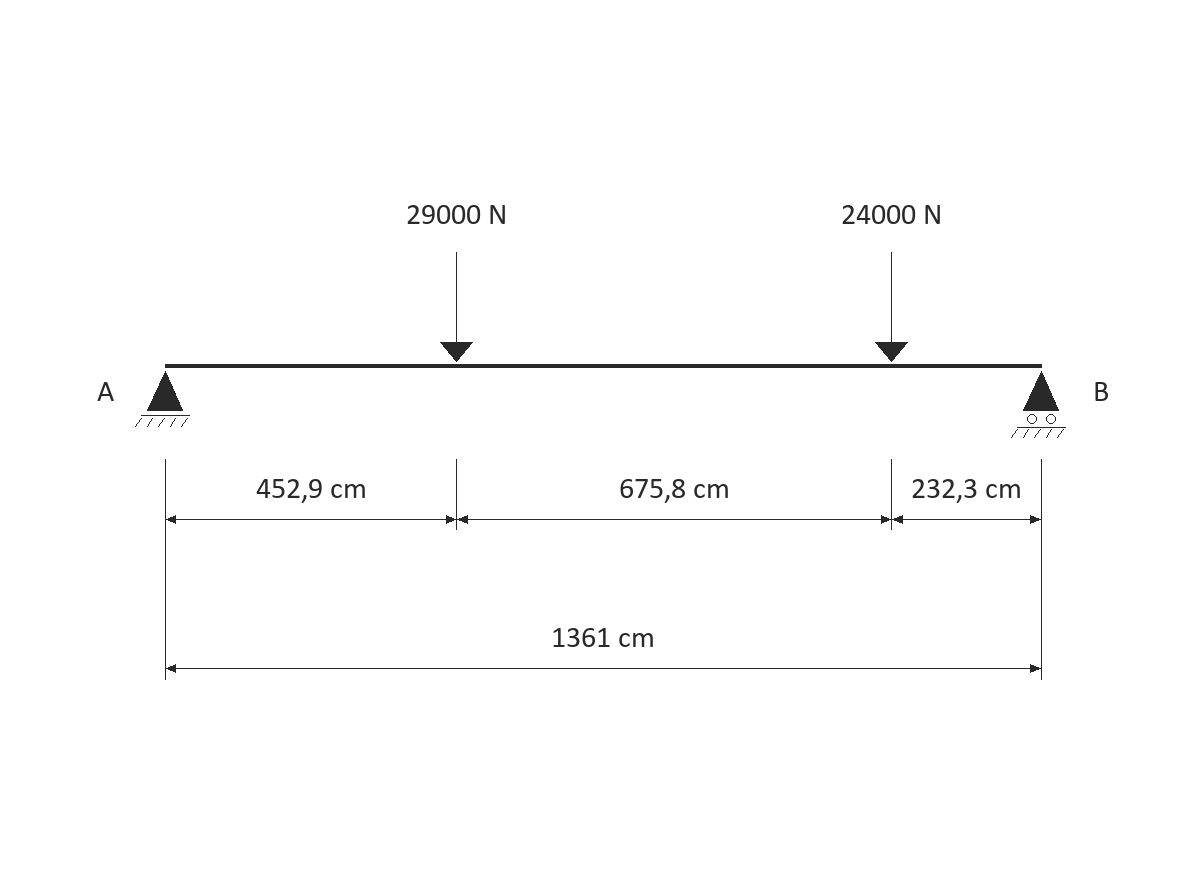pin_support: (135, 371, 190, 427)
point_load: (440, 252, 473, 362), (875, 252, 908, 362)
roller_support: (1011, 371, 1066, 438)
